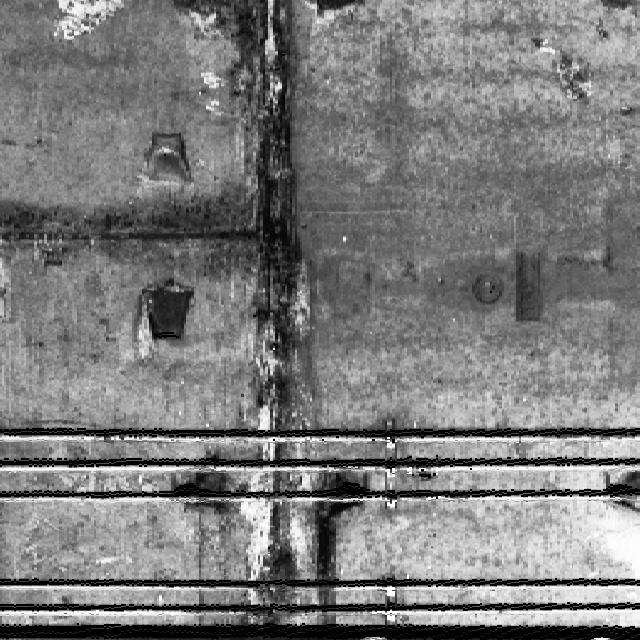leakage: (200, 0, 344, 638)
